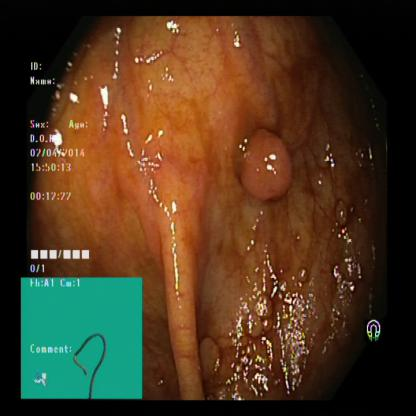Labels: (28, 57, 99, 274), (22, 275, 144, 401), (359, 306, 390, 354)
Polyps: (235, 118, 289, 210)
